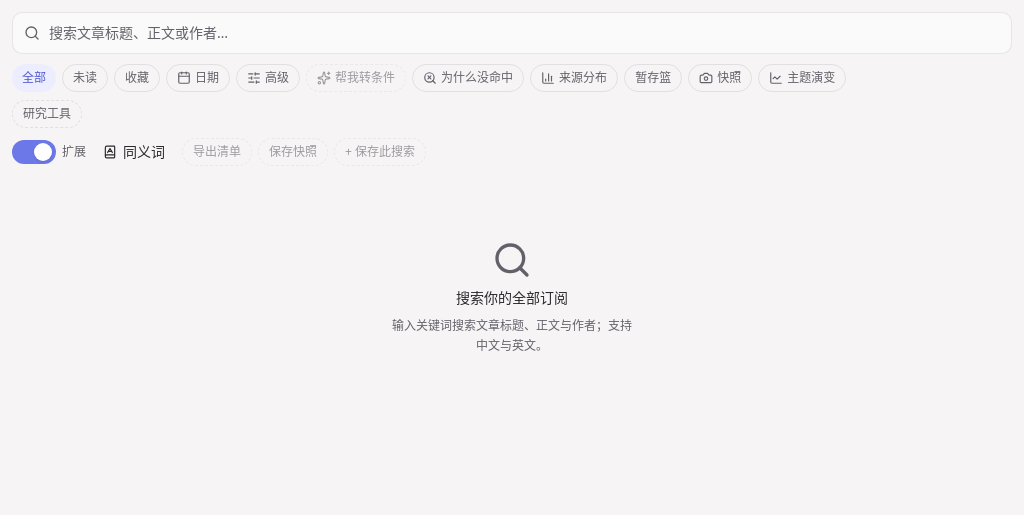
SearchPage 库分组 › data.library 非空：RSS 结果之后渲染「库」分组（kind 徽标 + 片段）
In the search field labelled "搜索": (512,33) [12,12,1012,54], type "关键词"
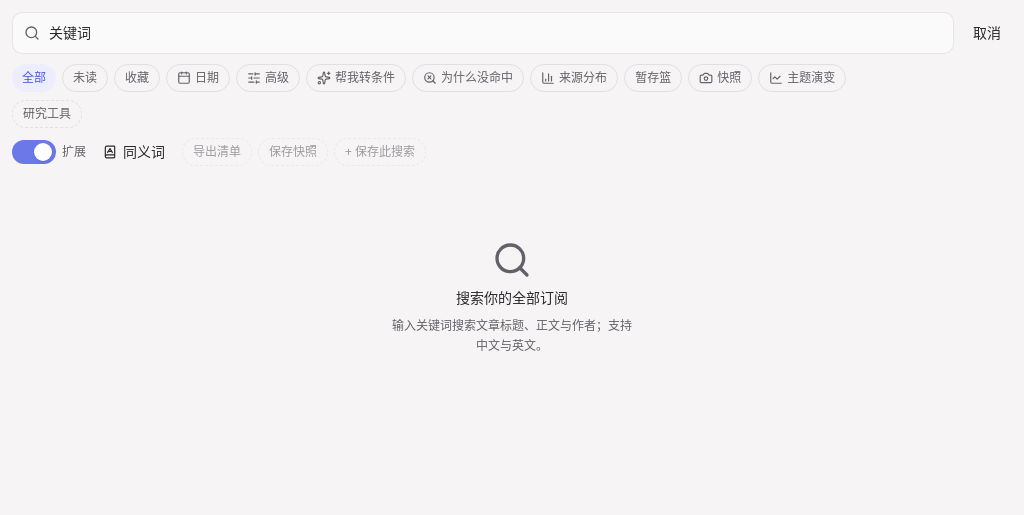
Press Enter in the search field named "搜索", box [12,12,954,54]
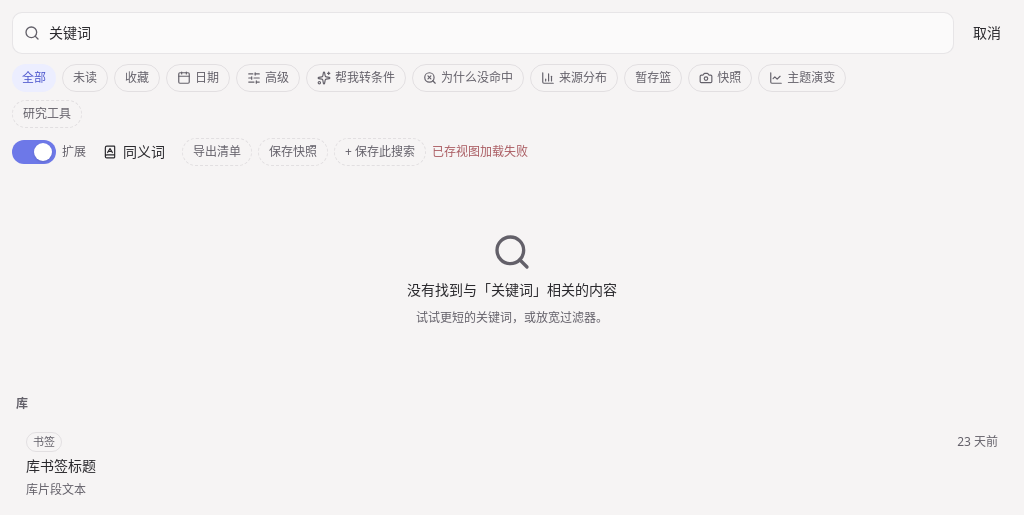
Expected: the heading "库" is shown, [16,394,28,412]
Expected: the button "库书签标题" is shown, [26,456,998,476]
Expected: the text "书签" is shown, [26,432,62,452]
